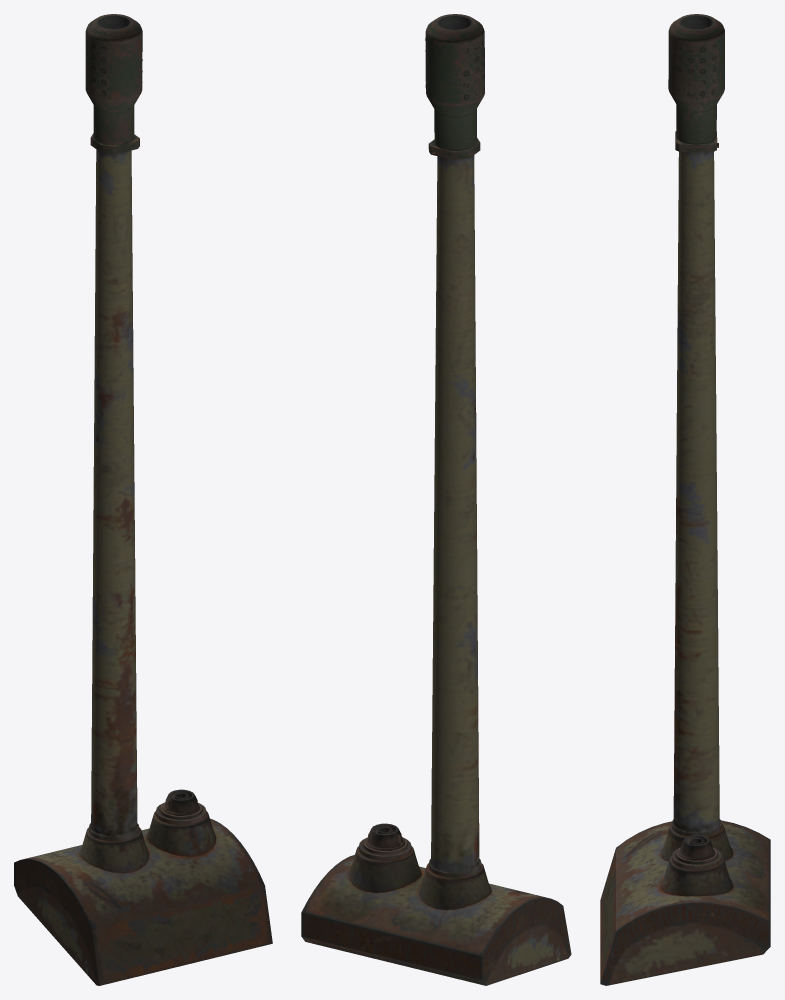
File: Gun_11.glb
3 views of the same model, side by side, from view 1: azimuth 30°, elevation 25°; view 2: azimuth 150°, elevation 25°; view 3: azimuth 270°, elevation 25° (orthographic). The views are drawn at different scales.
Visible parts, largest first — view 1: set_0_group_0; view 2: set_0_group_0; view 3: set_0_group_0.
Part boxes in pixels (<box>): set_0_group_0: <box>14,14,272,985</box>; set_0_group_0: <box>301,14,571,985</box>; set_0_group_0: <box>600,14,770,985</box>.
Size of the model in its own units: 0.9947 by 5.02 by 0.8502.
1 material, 1 textured.
